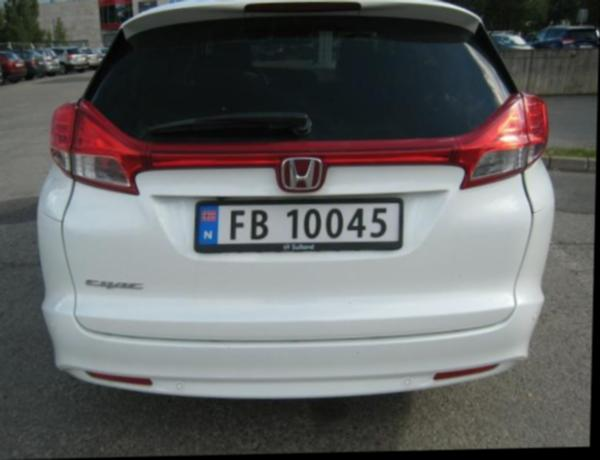License_Plate: (190, 188, 409, 265)
